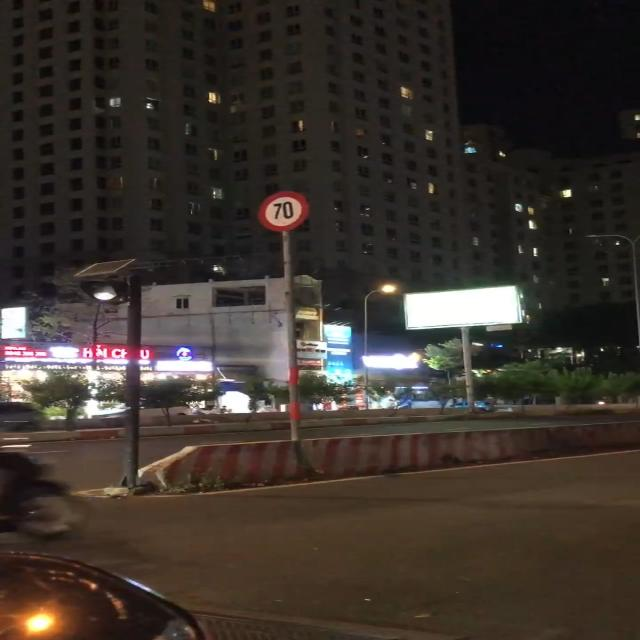Bien bao toc do toi da cho phep: (258, 188, 323, 235)
